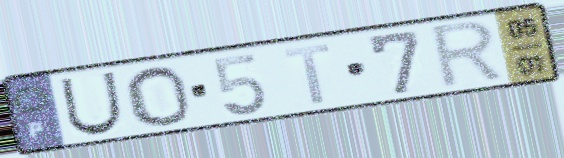5: (210, 50, 270, 119)
7: (363, 28, 423, 97)
O: (121, 64, 195, 128)
R: (428, 17, 510, 93)
T: (280, 41, 334, 107)
U: (56, 69, 126, 138)
